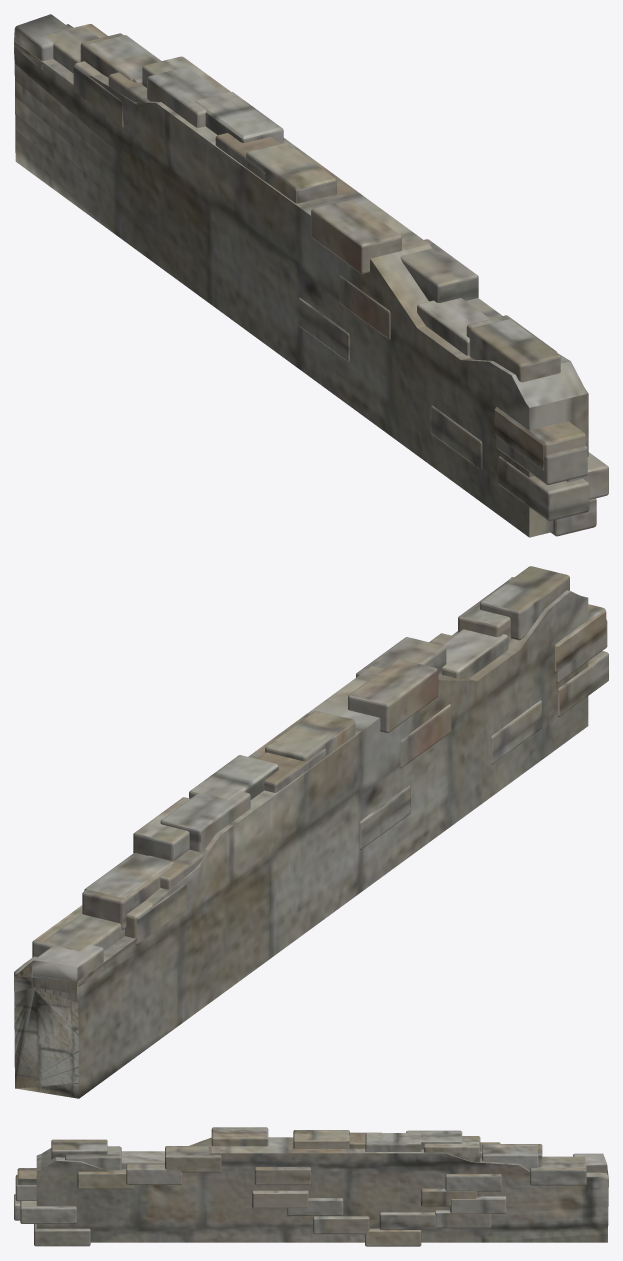
The model's file is cf_sm_wall.obj.
3 renders of one model, top to bottom at view 1: azimuth 30°, elevation 25°; view 2: azimuth 150°, elevation 25°; view 3: azimuth 270°, elevation 25°, orthographic. The views are drawn at different scales.
Visible parts, largest first — view 1: RubbleWall; view 2: RubbleWall; view 3: RubbleWall.
Part boxes in pixels (x1,y1,x2,y2): RubbleWall: (14, 14, 608, 537); RubbleWall: (14, 566, 608, 1098); RubbleWall: (14, 1127, 608, 1246).
Size of the model in its own units: 0.5495 by 1.26 by 6.76.
